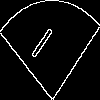I: (25, 25, 55, 68)
